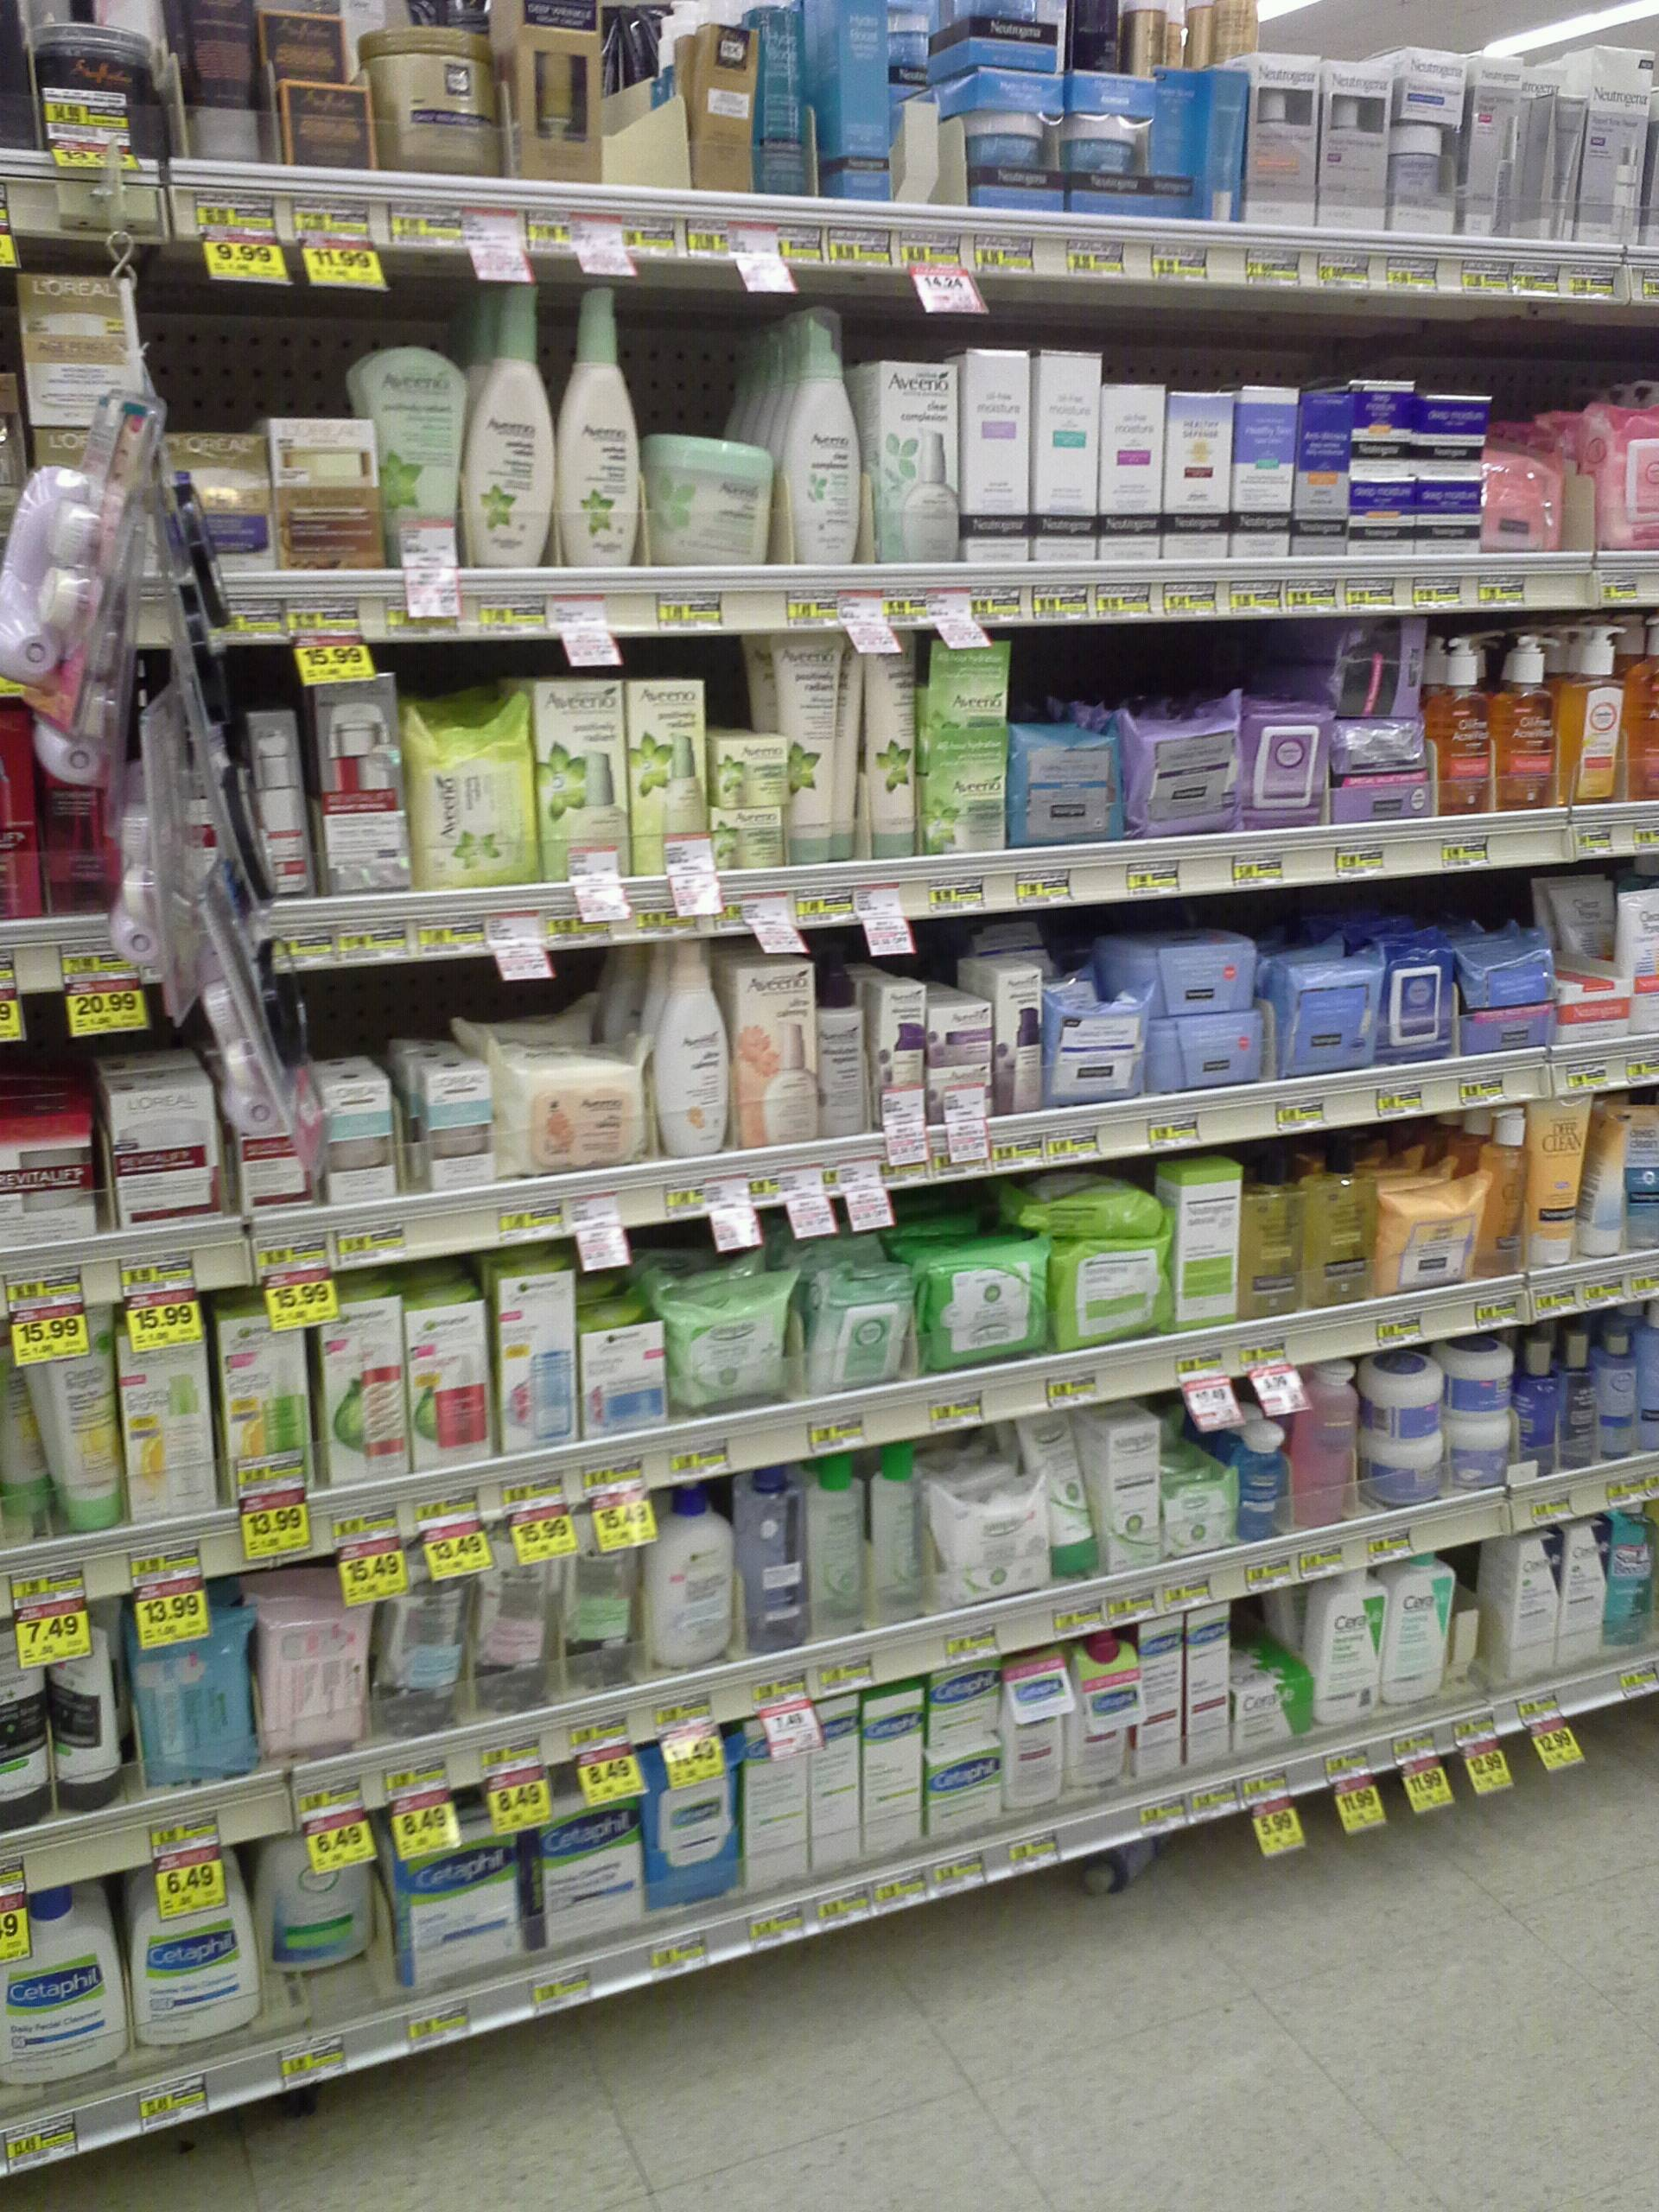product: (17, 427, 125, 759), (467, 270, 549, 568), (0, 1885, 127, 2074), (559, 268, 636, 570), (132, 1860, 260, 2031), (127, 1613, 249, 1780), (416, 711, 530, 890), (315, 674, 410, 887), (782, 310, 857, 566), (394, 1822, 519, 1972), (645, 430, 770, 570), (500, 1050, 645, 1170), (376, 30, 495, 174), (878, 352, 958, 563), (518, 5, 608, 192), (122, 1318, 211, 1508), (382, 345, 455, 568), (260, 1587, 357, 1754), (37, 21, 153, 160), (469, 1517, 554, 1707), (223, 1315, 307, 1508), (42, 1308, 112, 1540), (647, 1487, 737, 1663), (376, 1543, 464, 1726), (270, 1825, 375, 1975), (197, 904, 279, 1090), (655, 941, 725, 1157), (322, 1305, 406, 1484), (558, 1507, 640, 1689), (734, 961, 816, 1144), (544, 686, 622, 876), (544, 1791, 643, 1935), (631, 679, 702, 878), (1124, 709, 1236, 834), (124, 759, 181, 1000), (674, 1284, 782, 1411), (277, 421, 368, 570), (17, 280, 129, 401), (404, 1306, 490, 1463), (1012, 721, 1117, 846), (1035, 347, 1096, 561), (51, 1613, 120, 1797), (965, 350, 1026, 561), (117, 1097, 218, 1224), (500, 1270, 570, 1453), (1168, 1162, 1246, 1324), (652, 1750, 734, 1900), (979, 71, 1061, 214), (1556, 625, 1621, 806), (835, 7, 894, 204), (864, 631, 915, 860), (1581, 45, 1638, 244), (688, 24, 755, 197), (183, 7, 258, 158), (1161, 390, 1227, 561), (1056, 1244, 1161, 1352), (1286, 1359, 1352, 1527), (807, 1263, 901, 1381), (1073, 71, 1150, 216), (810, 1456, 871, 1637), (746, 1470, 807, 1651), (1255, 51, 1317, 226), (924, 1268, 1042, 1360), (1399, 47, 1459, 232), (246, 716, 308, 890), (0, 1118, 92, 1233), (1432, 632, 1490, 815), (1307, 1132, 1370, 1299), (1589, 406, 1659, 554), (1066, 1635, 1133, 1791), (1312, 1575, 1384, 1717), (788, 627, 829, 871), (1324, 61, 1385, 228), (1331, 610, 1427, 716), (746, 1719, 809, 1881), (945, 1487, 1037, 1597), (819, 941, 870, 1141), (1382, 1554, 1452, 1698), (1281, 960, 1368, 1075), (1103, 387, 1161, 559), (1495, 634, 1551, 810), (1246, 1148, 1303, 1317), (1230, 388, 1288, 557), (580, 1318, 662, 1435), (924, 641, 999, 766), (1335, 719, 1425, 822), (1047, 996, 1136, 1101), (878, 1442, 929, 1625), (763, 2, 810, 193), (279, 77, 375, 171), (1009, 1653, 1065, 1810), (1528, 1096, 1579, 1268), (1378, 1193, 1469, 1289), (1244, 714, 1324, 822), (1042, 1411, 1093, 1581), (329, 1080, 401, 1200), (1516, 92, 1575, 237), (199, 441, 267, 566), (864, 1691, 920, 1843), (0, 1642, 47, 1820), (812, 1700, 861, 1867), (1474, 1108, 1521, 1278), (51, 779, 110, 913), (1378, 946, 1446, 1061), (1297, 390, 1344, 552), (931, 10, 1063, 68), (1112, 1421, 1161, 1571), (1127, 948, 1258, 1003), (1148, 1019, 1255, 1087), (1488, 446, 1556, 550), (875, 979, 924, 1123), (993, 970, 1042, 1113), (1140, 1616, 1185, 1770), (1469, 52, 1506, 240), (432, 1066, 490, 1184), (1509, 1541, 1558, 1681), (1188, 1609, 1232, 1764), (1014, 1183, 1159, 1228), (1514, 1334, 1560, 1479), (925, 772, 1004, 853), (1453, 939, 1558, 998), (1366, 1350, 1436, 1439), (1617, 1507, 1657, 1658), (261, 5, 349, 75), (1236, 1416, 1283, 1543), (1584, 1101, 1621, 1258), (1439, 1331, 1504, 1420), (1565, 1527, 1607, 1663), (1621, 890, 1659, 1033), (1415, 395, 1481, 475), (1352, 381, 1408, 475), (1624, 1103, 1659, 1251), (1164, 71, 1199, 219), (240, 1136, 312, 1207), (1209, 75, 1244, 221), (1561, 1327, 1596, 1472), (931, 1759, 993, 1838), (1600, 1331, 1638, 1458), (1415, 482, 1480, 554), (1168, 1482, 1230, 1555), (931, 1670, 1004, 1731), (1352, 481, 1413, 554), (1368, 1442, 1441, 1503), (718, 742, 784, 803), (1236, 1689, 1312, 1740), (713, 812, 779, 866), (927, 1001, 986, 1061), (1453, 1425, 1509, 1486), (927, 1066, 990, 1118), (1561, 984, 1617, 1038), (1464, 1014, 1553, 1045)
